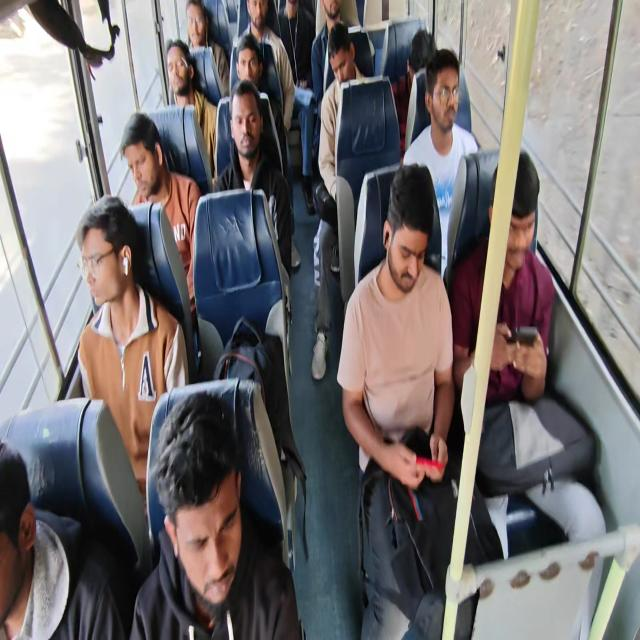person: (449, 149, 606, 551), (336, 162, 456, 638), (129, 390, 303, 639), (76, 194, 189, 514), (450, 150, 555, 405), (0, 439, 125, 639), (311, 22, 369, 380), (402, 48, 480, 281), (119, 111, 202, 315), (213, 79, 293, 279), (276, 0, 317, 214), (230, 32, 288, 176), (237, 0, 295, 133), (165, 39, 218, 178), (310, 0, 343, 189), (391, 29, 437, 155), (185, 0, 229, 97), (277, 0, 316, 89)
